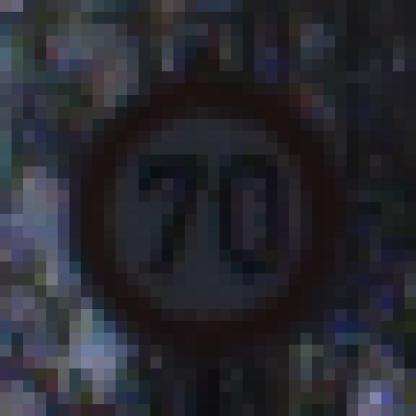Speed Limit 70: (86, 78, 335, 348)
